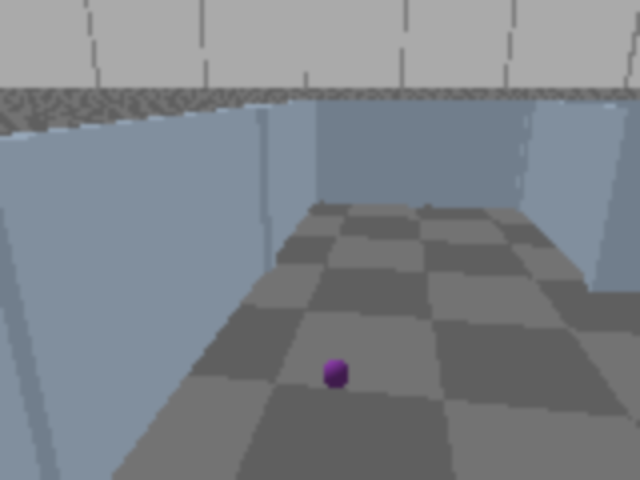puck: (319, 353, 353, 396)
